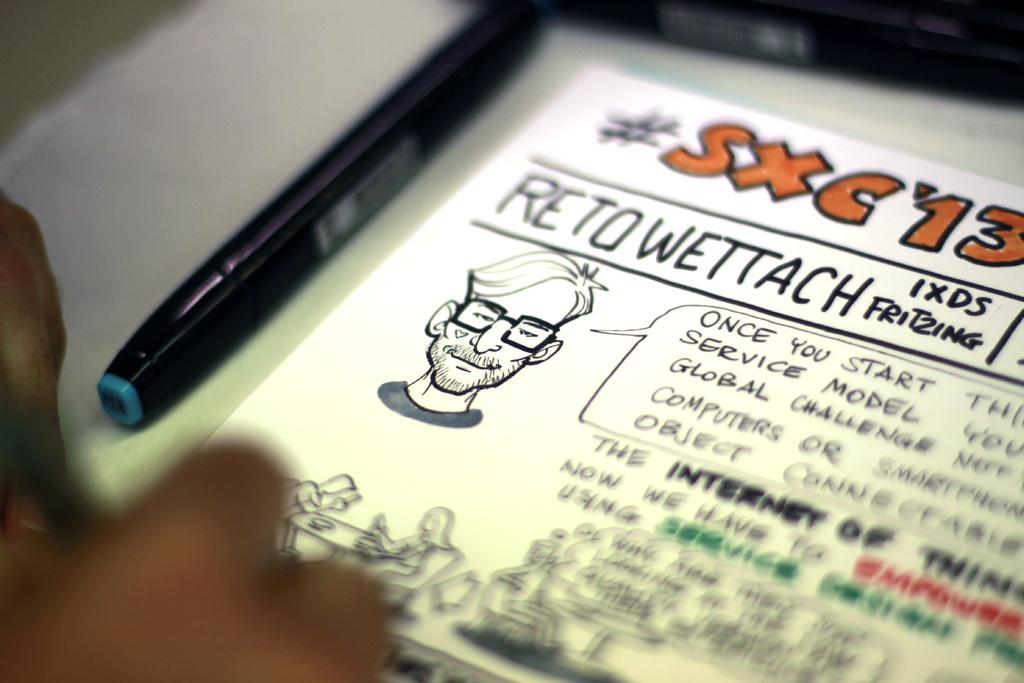pen: (98, 0, 570, 433)
